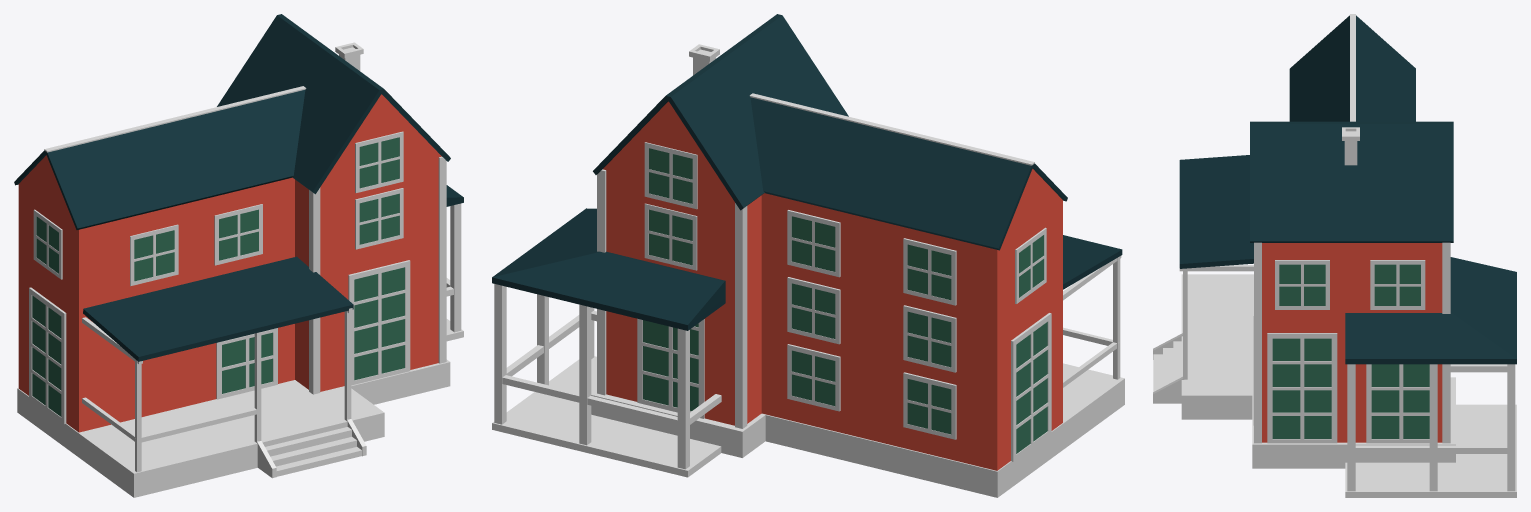
File: House_07.FBX
The picture shows the model from 3 angles, left to right: view 1: azimuth 30°, elevation 25°; view 2: azimuth 150°, elevation 25°; view 3: azimuth 270°, elevation 25°; orthographic projection. The views are drawn at different scales.
Visible parts, largest first — view 1: House_07; view 2: House_07; view 3: House_07.
Part boxes in pixels (x1,y1,x2,y2): House_07: (14,14,463,497); House_07: (492,14,1124,497); House_07: (1153,14,1516,497).
Bounding box in the file's own units: 9.73 × 7.07 × 7.45.
1 material, 1 textured.
